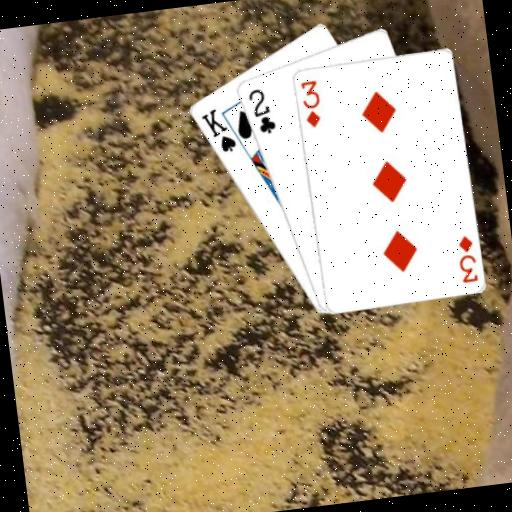2C: (245, 84, 279, 138)
3D: (297, 77, 325, 130), (452, 231, 480, 284)
KS: (196, 104, 239, 157)
